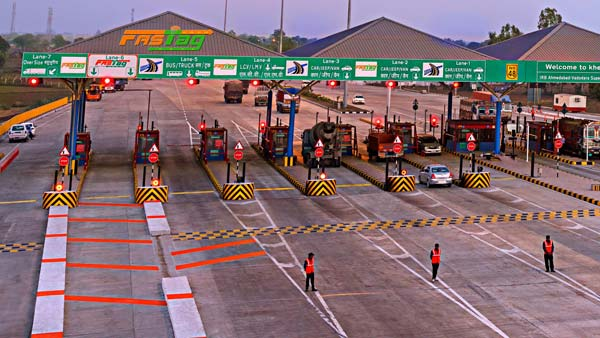toll plaza: (62, 48, 600, 189)
